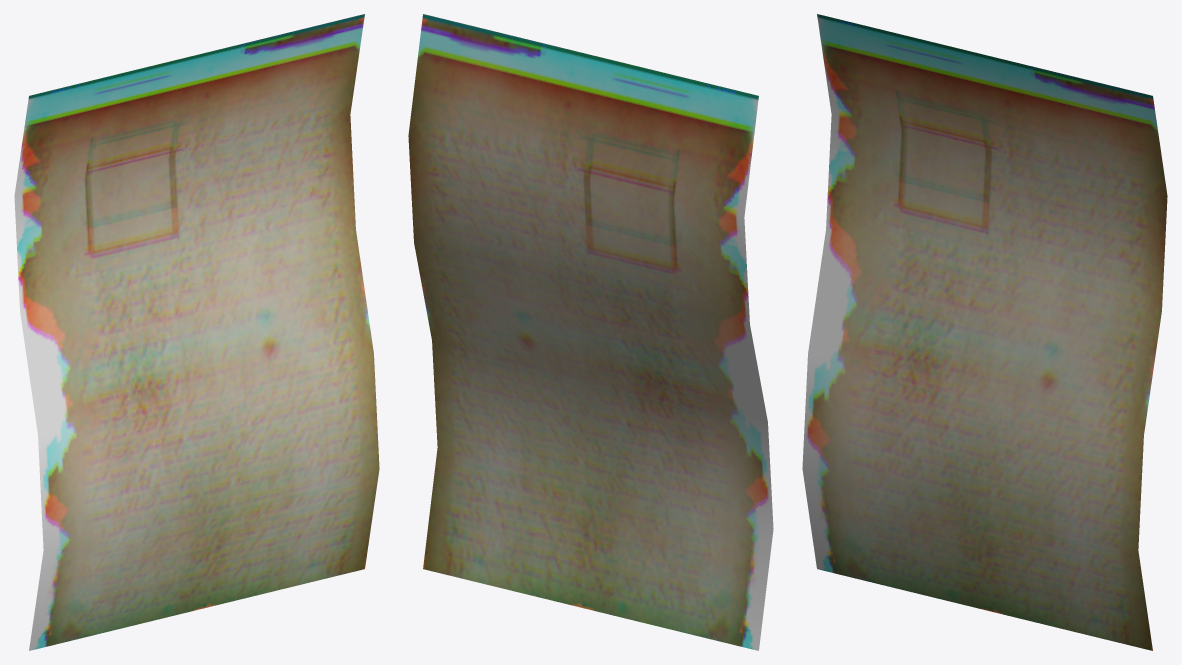
The picture shows the model from 3 angles, left to right: view 1: azimuth 30°, elevation 25°; view 2: azimuth 150°, elevation 25°; view 3: azimuth 330°, elevation 25°; orthographic projection.
Visible parts, largest first — view 1: PageFront, PageBack; view 2: PageBack, PageFront; view 3: PageFront, PageBack.
Boxes of the visible parts, <box> form: PageFront: <box>15,14,379,650</box>; PageBack: <box>14,14,364,650</box>; PageBack: <box>408,14,772,650</box>; PageFront: <box>423,14,773,650</box>; PageFront: <box>802,14,1166,650</box>; PageBack: <box>817,14,1167,650</box>.
Bounding box in the file's own units: 6.33 × 10.01 × 0.9636.
